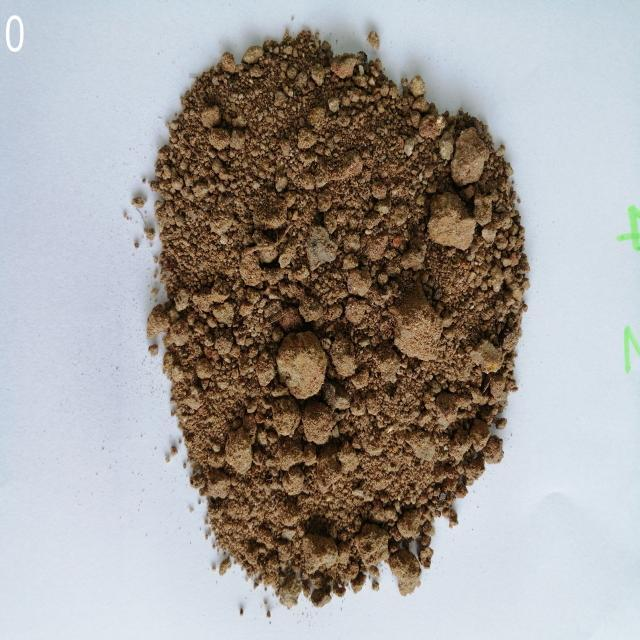soil: (215, 95, 423, 522)
